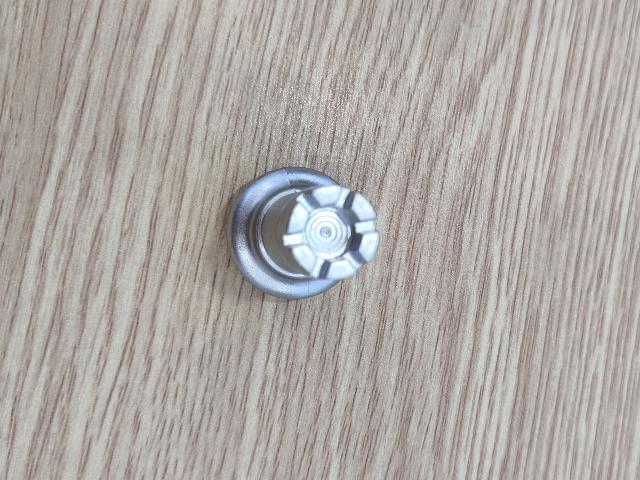white_rook: (227, 166, 380, 304)
